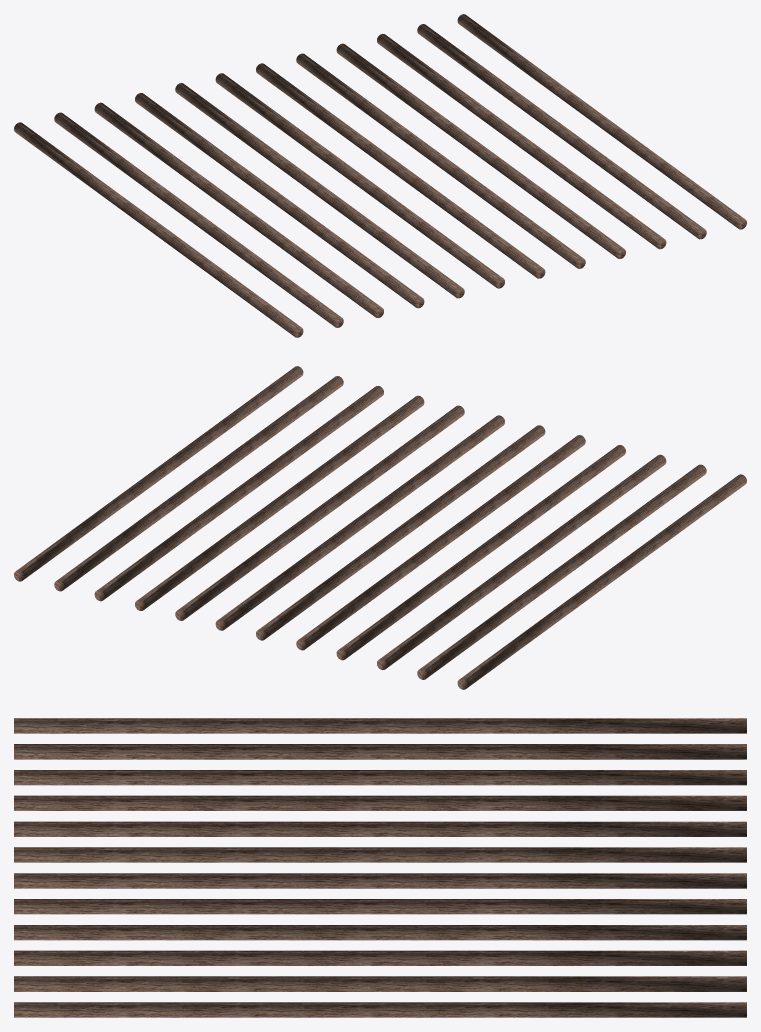
Rendered from mexlogs2.fbx.
3 views of the same model, one above another, from view 1: azimuth 30°, elevation 25°; view 2: azimuth 150°, elevation 25°; view 3: azimuth 270°, elevation 25° (orthographic). The views are drawn at different scales.
Visible parts, largest first — view 1: mexlogs2; view 2: mexlogs2; view 3: mexlogs2.
Boxes of the visible parts, x1=… form: mexlogs2: x1=14, y1=14, x2=746, y2=337; mexlogs2: x1=14, y1=366, x2=746, y2=689; mexlogs2: x1=14, y1=718, x2=746, y2=1017.
Size of the model in its own units: 72000 by 1600 by 76800.
